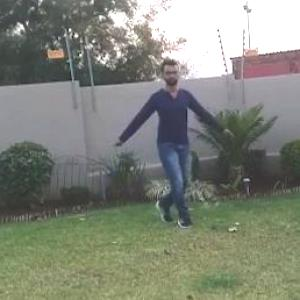land: (112, 68, 225, 216)
